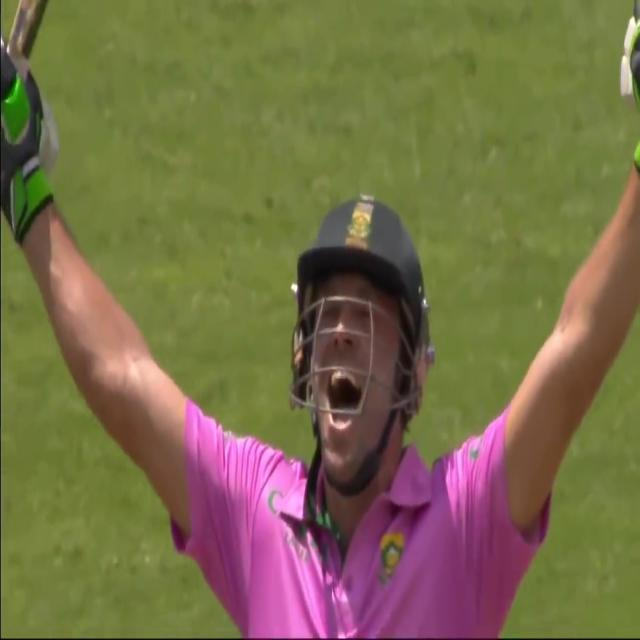Ball: (2, 1, 391, 635), (452, 0, 640, 638)
